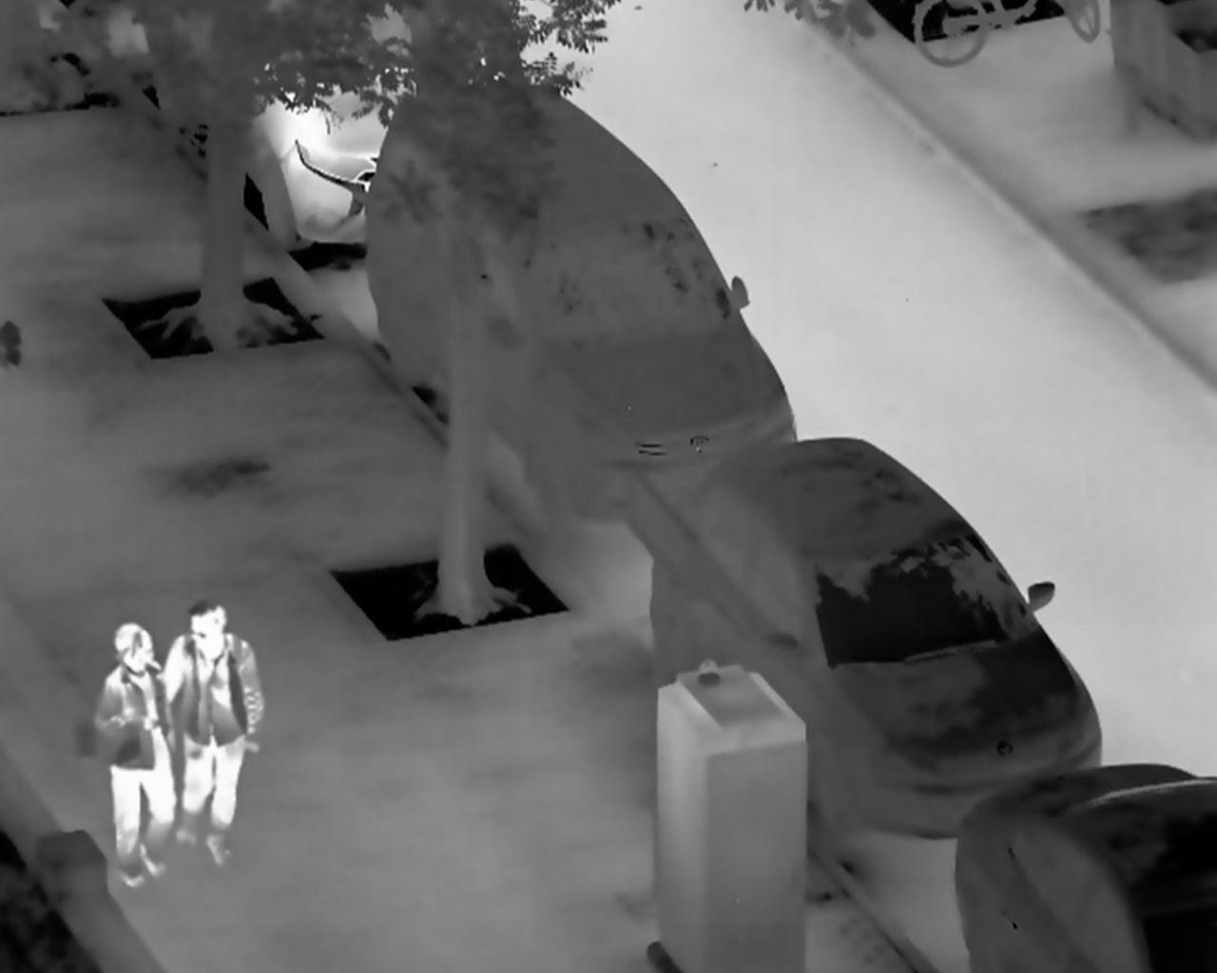person: (161, 599, 270, 868), (91, 619, 178, 886)
